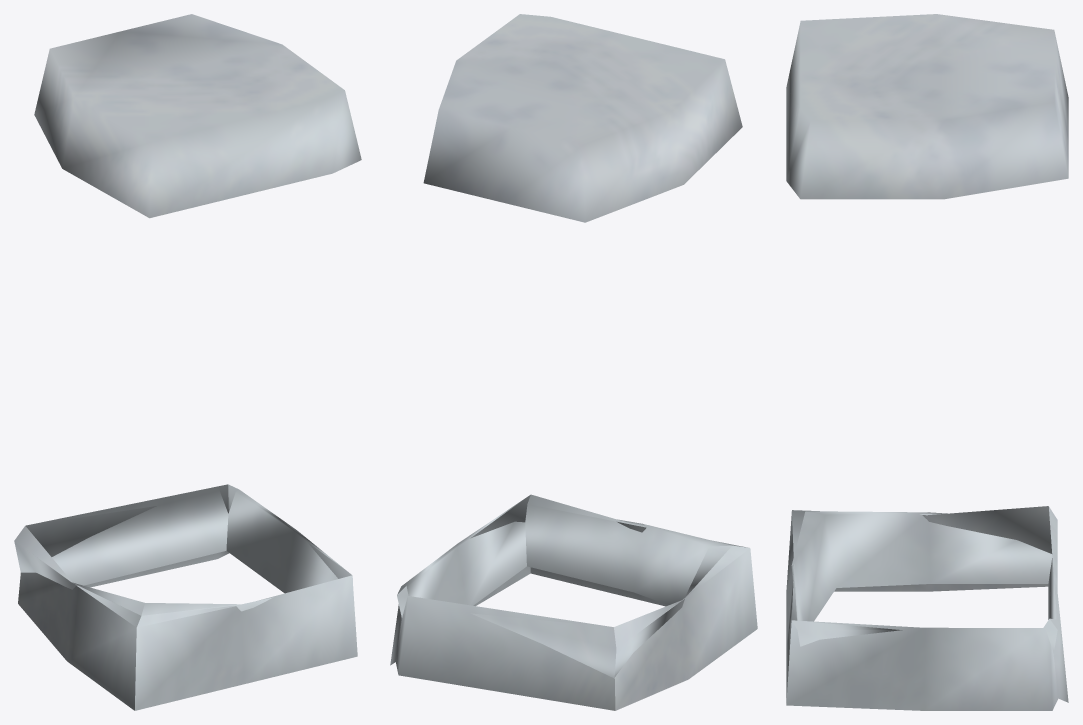
File: Deco_3_Snow.fbx
3 renders of one model, left to right at view 1: azimuth 30°, elevation 25°; view 2: azimuth 150°, elevation 25°; view 3: azimuth 270°, elevation 25°, orthographic. The views are drawn at different scales.
Visible parts, largest first — view 1: Deco_3_Snow; view 2: Deco_3_Snow; view 3: Deco_3_Snow.
Part boxes in pixels (x1,y1,x2,y2): Deco_3_Snow: (14,14,361,710); Deco_3_Snow: (390,14,757,710); Deco_3_Snow: (786,14,1068,710).
Bounding box in the file's own units: 51.39 × 117 × 51.39.
